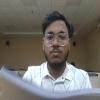notebook: (0, 64, 99, 99)
